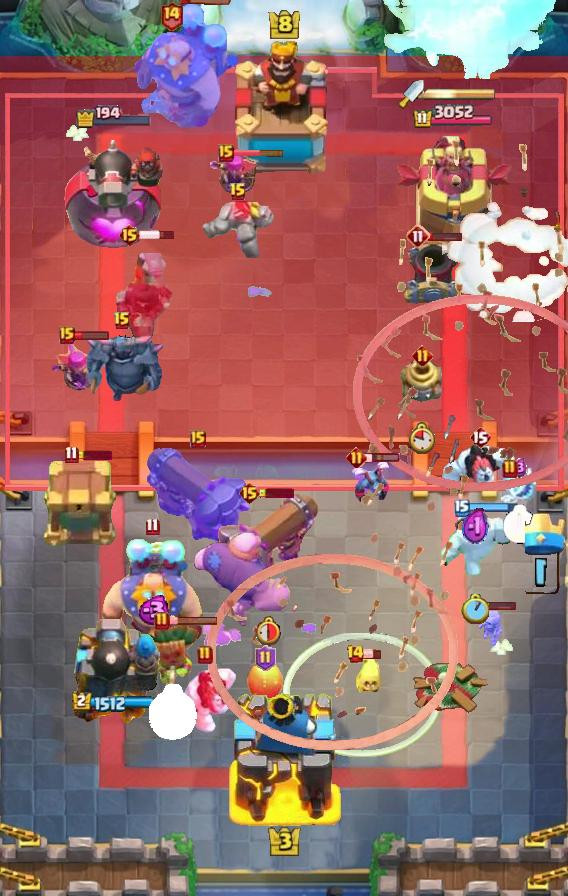balloon: (191, 530, 293, 630)
bar: (391, 132, 515, 256)
bat: (501, 465, 537, 505)
bat-evolution: (355, 655, 385, 701)
bomb: (43, 460, 121, 548)
electro-spirit: (134, 595, 171, 625), (462, 508, 489, 549), (513, 458, 527, 478)
elixir: (149, 684, 197, 740), (502, 504, 538, 544), (409, 422, 436, 454), (461, 594, 489, 624), (253, 615, 281, 645)
emote: (467, 502, 519, 513), (167, 614, 219, 625), (231, 147, 285, 157), (139, 229, 177, 241), (74, 330, 111, 342), (363, 452, 400, 464), (428, 231, 463, 242), (483, 600, 518, 611), (76, 450, 112, 460), (258, 488, 294, 498), (181, 0, 233, 6), (363, 649, 382, 660)
evolution-symbol: (50, 339, 108, 401), (210, 149, 262, 207)
furnace: (213, 490, 321, 600), (143, 443, 253, 545)
goblin-barrel: (143, 620, 203, 698)
goblin-drill: (398, 354, 446, 404)
golemite: (80, 331, 164, 403)
heal-spirit: (475, 611, 505, 649)
hog: (245, 660, 285, 704)
inferno-dragon: (111, 240, 173, 350)
king-tower: (226, 688, 342, 826), (228, 41, 340, 181)
king-tower-bar: (424, 87, 496, 101)
little-prince: (134, 3, 242, 129), (97, 537, 207, 653)
mega-knight: (352, 0, 568, 104)
musketeer: (402, 240, 464, 308)
rage: (438, 511, 512, 575), (172, 667, 238, 735), (442, 443, 518, 499)
royal-delivery: (348, 462, 390, 502)
selected: (412, 104, 494, 130), (75, 105, 153, 129), (71, 691, 156, 713)
skeleton-barrel: (206, 392, 470, 752), (352, 139, 568, 494)
text: (160, 0, 185, 31), (406, 224, 430, 248), (118, 223, 141, 247), (239, 481, 262, 505), (256, 645, 277, 671), (469, 425, 491, 449), (412, 345, 433, 366), (346, 448, 367, 469), (347, 644, 366, 664), (229, 182, 247, 202), (113, 311, 131, 331), (502, 459, 518, 479), (154, 611, 170, 631), (197, 645, 213, 665), (218, 144, 234, 162), (59, 326, 75, 344), (190, 430, 206, 448), (454, 499, 470, 517), (65, 444, 80, 463), (145, 517, 160, 536)
tower-bar: (60, 132, 167, 256), (67, 611, 161, 731)
valkyrie-evolution: (200, 196, 276, 258)
wall-breaker: (442, 200, 568, 322)
